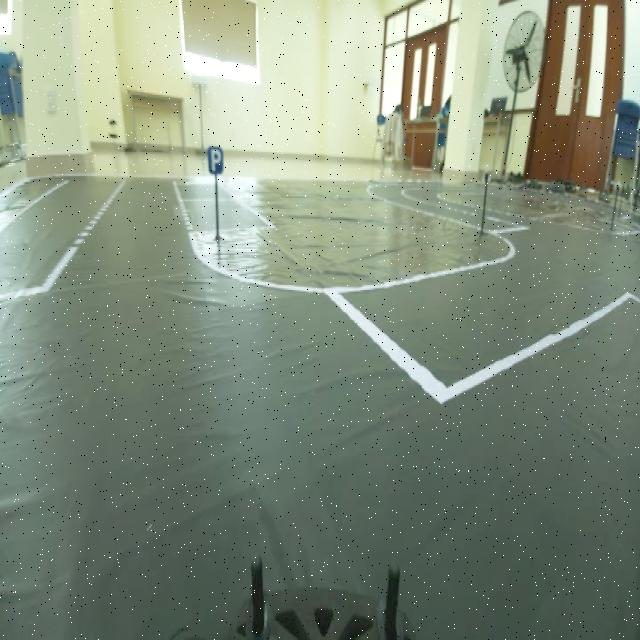parking: (200, 132, 232, 185)
